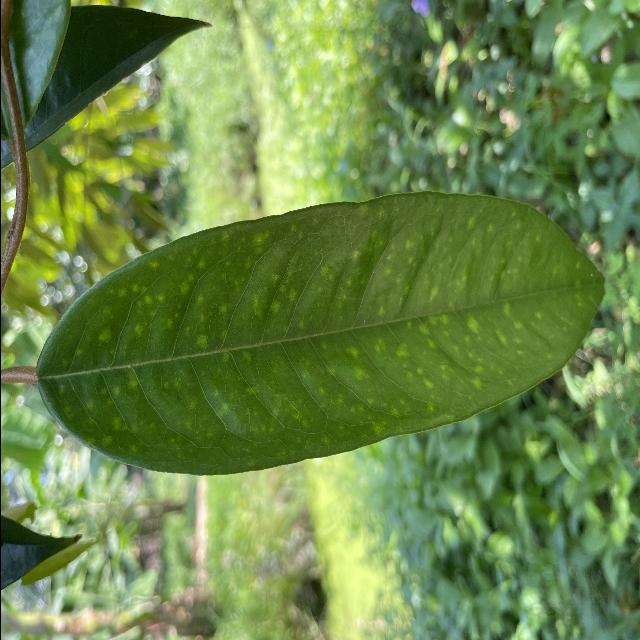Leaf Spot: (19, 189, 605, 481)
